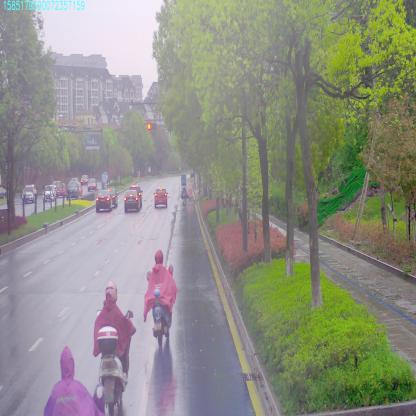traffic-light: (146, 122, 154, 130)
